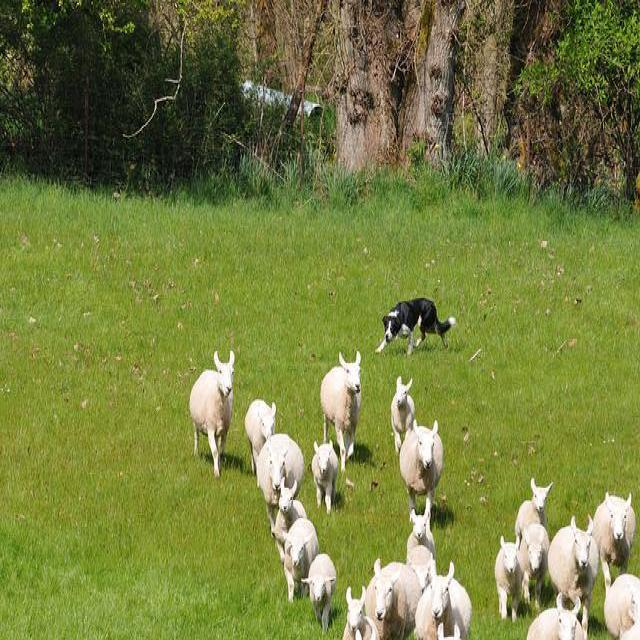Sheep: (343, 492, 639, 638), (192, 351, 235, 479), (258, 432, 305, 538), (364, 551, 420, 639), (322, 351, 362, 474), (400, 419, 443, 533), (414, 558, 474, 638), (515, 528, 561, 614), (283, 516, 320, 604), (300, 552, 337, 638), (309, 431, 343, 521), (274, 477, 308, 562), (513, 474, 553, 541)
